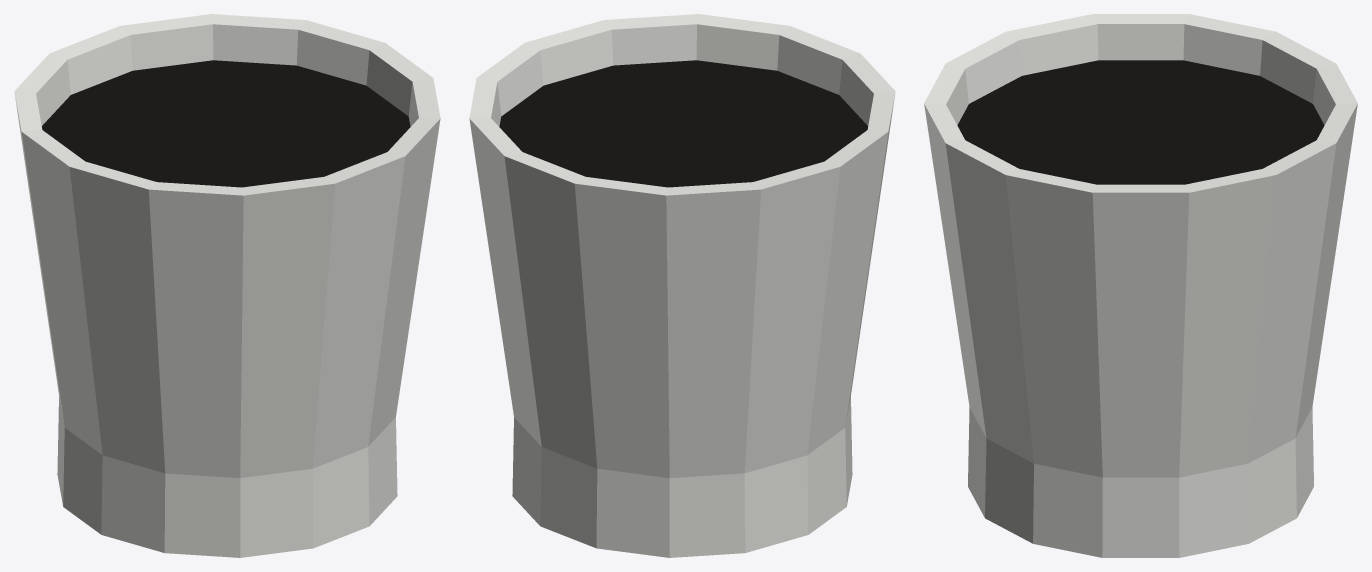
The model's file is Plant_Pot_Flare.fbx.
3 views of the same model, side by side, from view 1: azimuth 30°, elevation 25°; view 2: azimuth 150°, elevation 25°; view 3: azimuth 270°, elevation 25° (orthographic).
Visible parts, largest first — view 1: Plant_A_Pot; view 2: Plant_A_Pot; view 3: Plant_A_Pot.
Part boxes in pixels (bbox=[...]): Plant_A_Pot: bbox=[14, 14, 440, 557]; Plant_A_Pot: bbox=[469, 14, 895, 557]; Plant_A_Pot: bbox=[924, 14, 1357, 557].
Bounding box in the file's own units: 36.31 × 36.3 × 37.25.
1 material, 1 textured.
